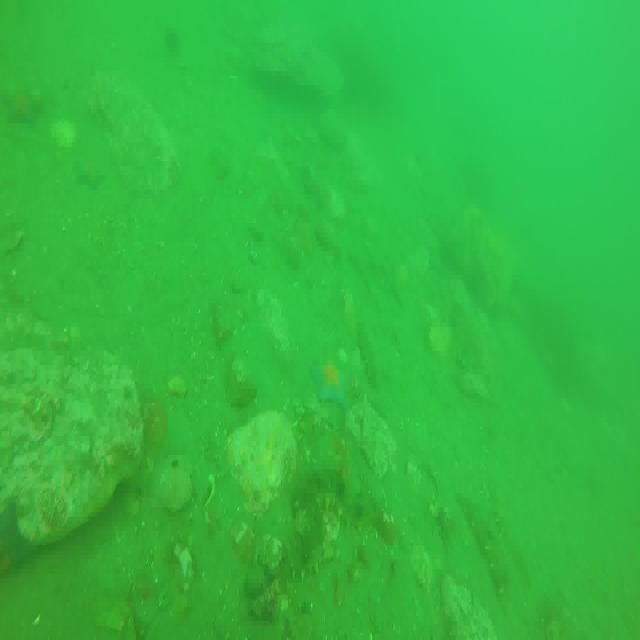holothurian: (457, 488, 512, 593), (289, 466, 358, 524), (288, 513, 327, 583), (356, 319, 382, 389)
starfish: (311, 354, 353, 411), (3, 81, 48, 130), (74, 153, 106, 190)
